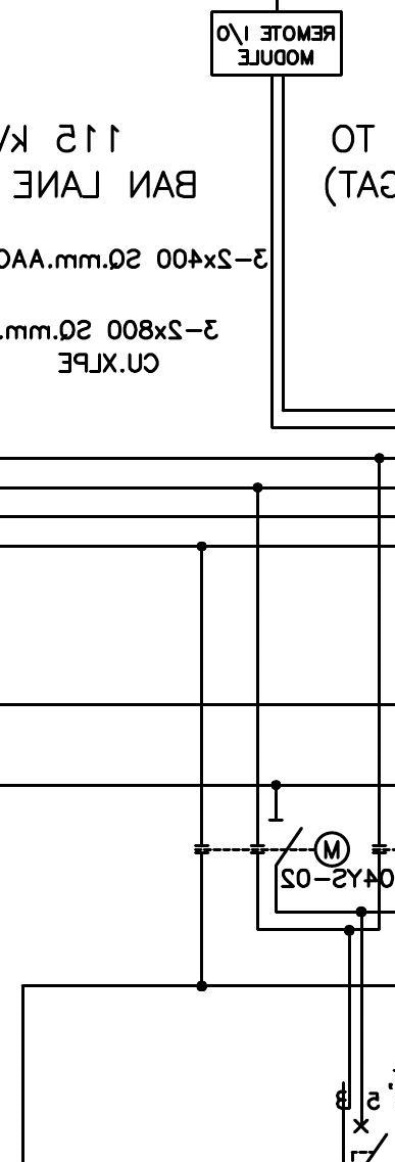115_1way_ds_w_motor: (267, 818, 351, 869)
remote_io_module: (210, 10, 344, 77)
